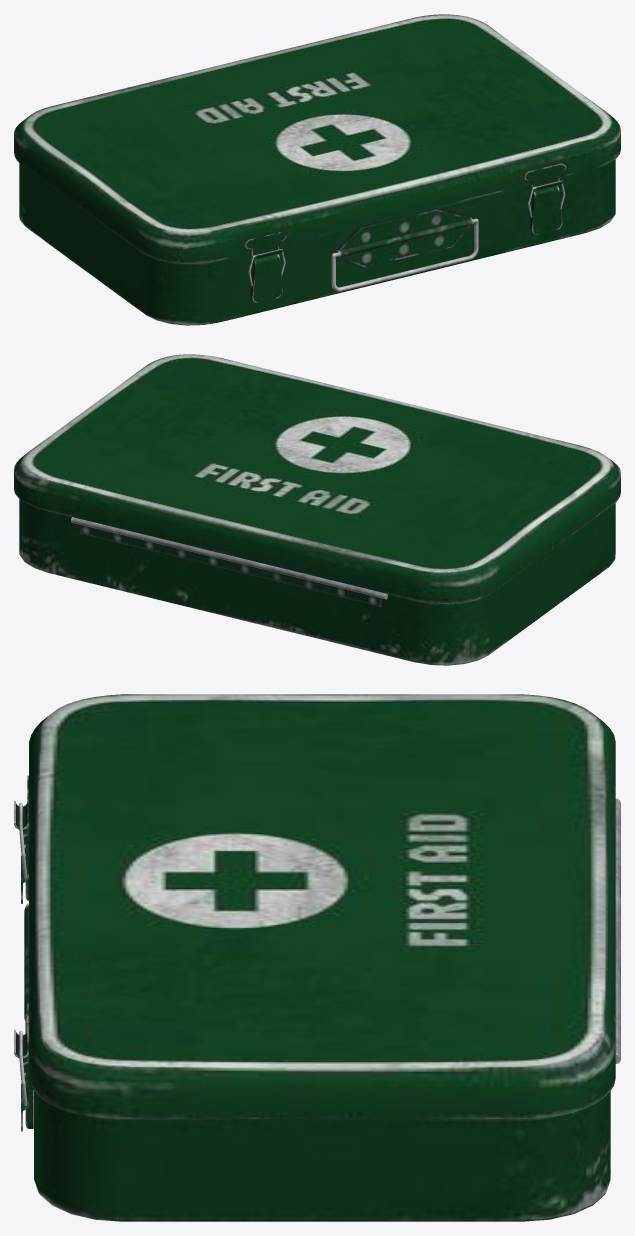
3 views of the same model, one above another, from view 1: azimuth 30°, elevation 25°; view 2: azimuth 150°, elevation 25°; view 3: azimuth 270°, elevation 25° (orthographic). The views are drawn at different scales.
Parts seen in each view (by area): view 1: medical_box_lid, medical_box, medical_box_latch, medical_box_handle; view 2: medical_box_lid, medical_box; view 3: medical_box_lid, medical_box.
Boxes of the visible parts, x1,y1,x2,y2 form: medical_box_lid: (14, 14, 620, 263); medical_box: (19, 159, 615, 325); medical_box_latch: (251, 185, 562, 302); medical_box_handle: (331, 218, 478, 291); medical_box_lid: (14, 354, 620, 603); medical_box: (19, 499, 615, 665); medical_box_lid: (14, 694, 615, 1118); medical_box: (24, 798, 620, 1221).
Size of the model in its own units: 0.5255 by 0.0975 by 0.3502.
1 material, 1 textured.
